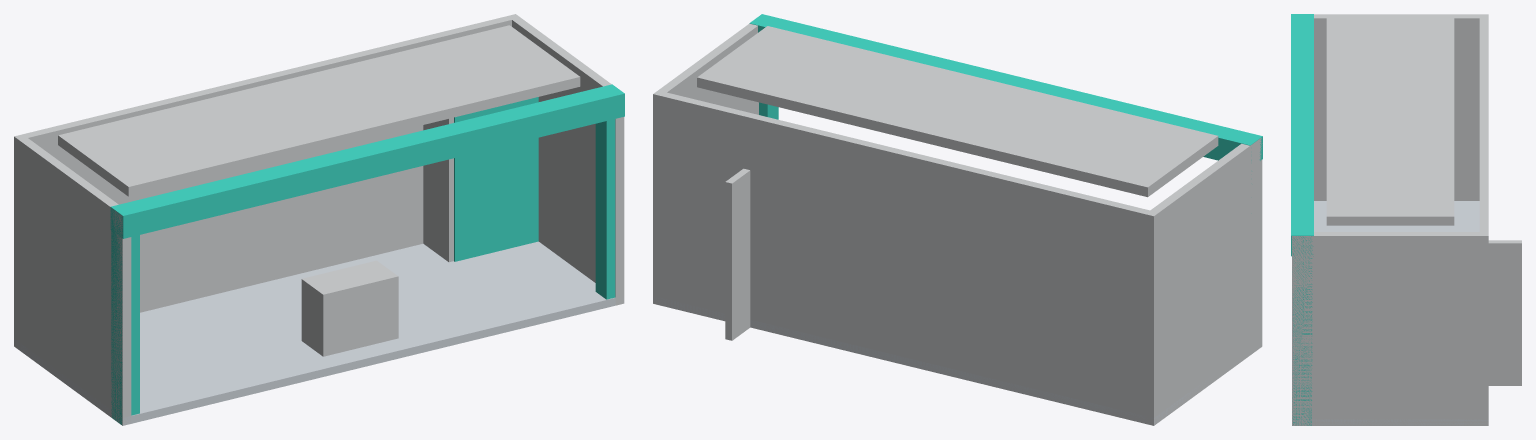
3 views of the same model, side by side, from view 1: azimuth 30°, elevation 25°; view 2: azimuth 150°, elevation 25°; view 3: azimuth 270°, elevation 25° (orthographic). The views are drawn at different scales.
Parts seen in each view (by area): view 1: Exhibition Booth Concept; view 2: Exhibition Booth Concept; view 3: Exhibition Booth Concept.
Boxes of the visible parts, x1,y1,x2,y2 form: Exhibition Booth Concept: (14,14,624,425); Exhibition Booth Concept: (653,14,1262,425); Exhibition Booth Concept: (1291,14,1521,425).
Size of the model in its own units: 8 by 3.34 by 3.52.
